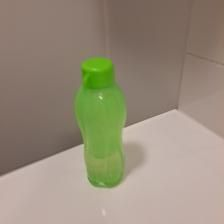bottle: (75, 54, 125, 189)
